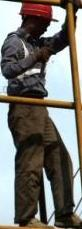boots: (19, 217, 48, 228), (0, 206, 19, 218)
gloves: (34, 46, 54, 63), (0, 112, 15, 130)
hard-hat: (0, 43, 17, 69)
